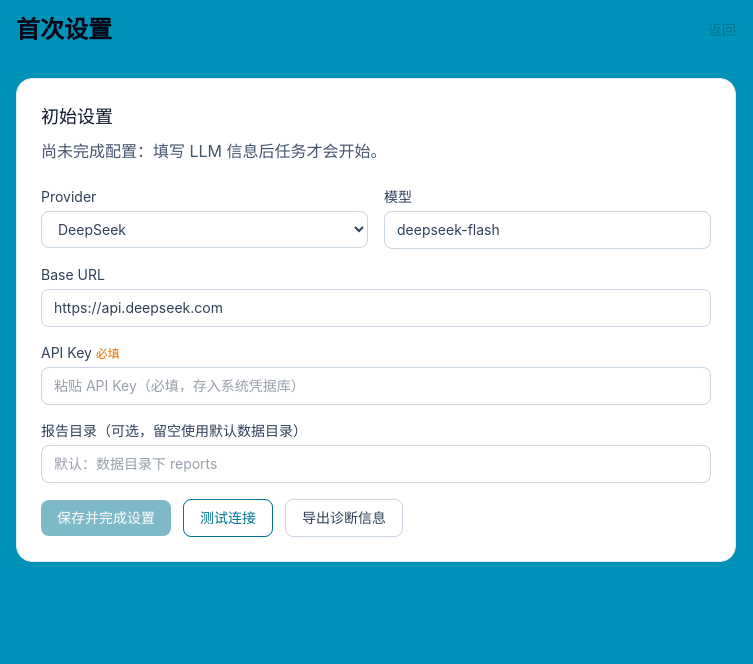
it: token bootstrap (P7) › test connection probes the on-screen config and reports the graded result
The width and height of the screenshot is (753, 664).
Check: the text "尚未完成配置：填写 LLM 信息后任务才会开始。" is shown, box [41,141,387,161]
Type "sk-bad" into the password field labelled "API Key 必填" at (376, 386), box [41,367,711,405]
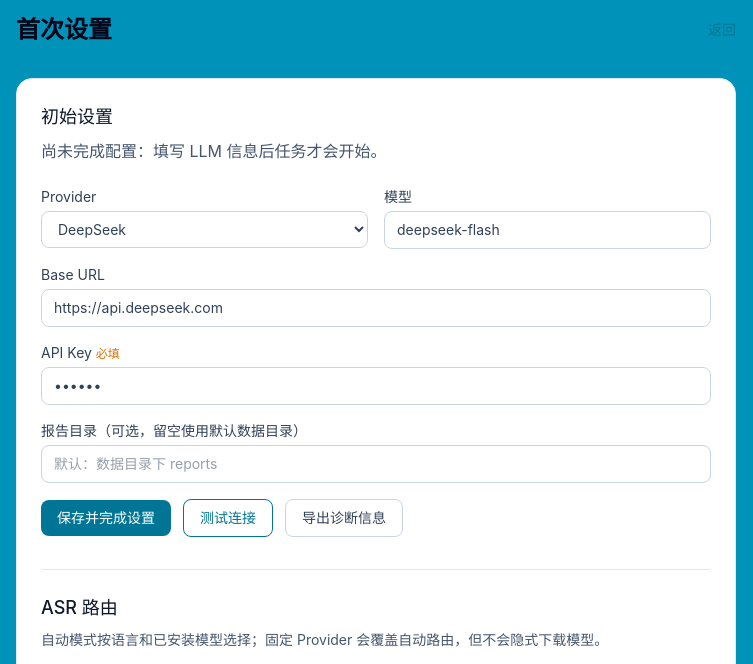
Click the button "测试连接" at (228, 518), box [183,499,273,537]
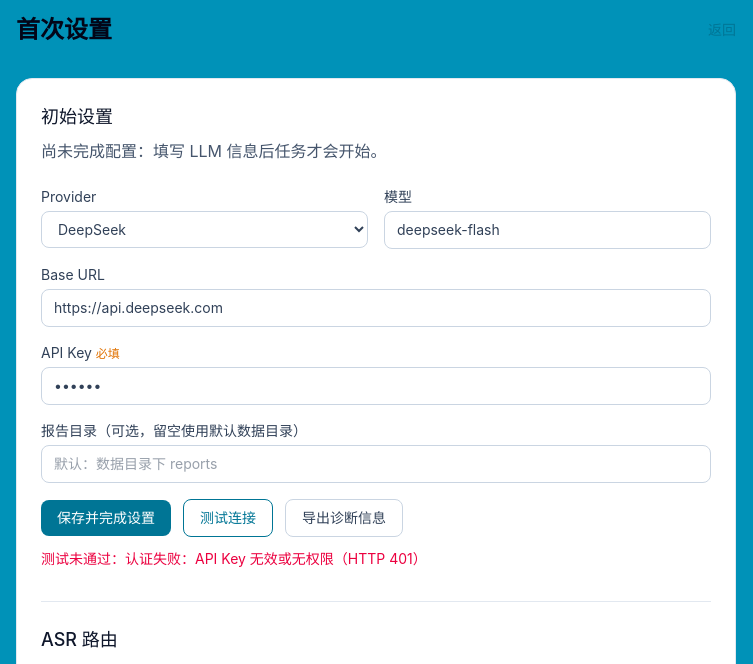
Check: the text "测试未通过：认证失败：API Key 无效或无权限（HTTP 401）" is shown, box [41,549,427,569]
